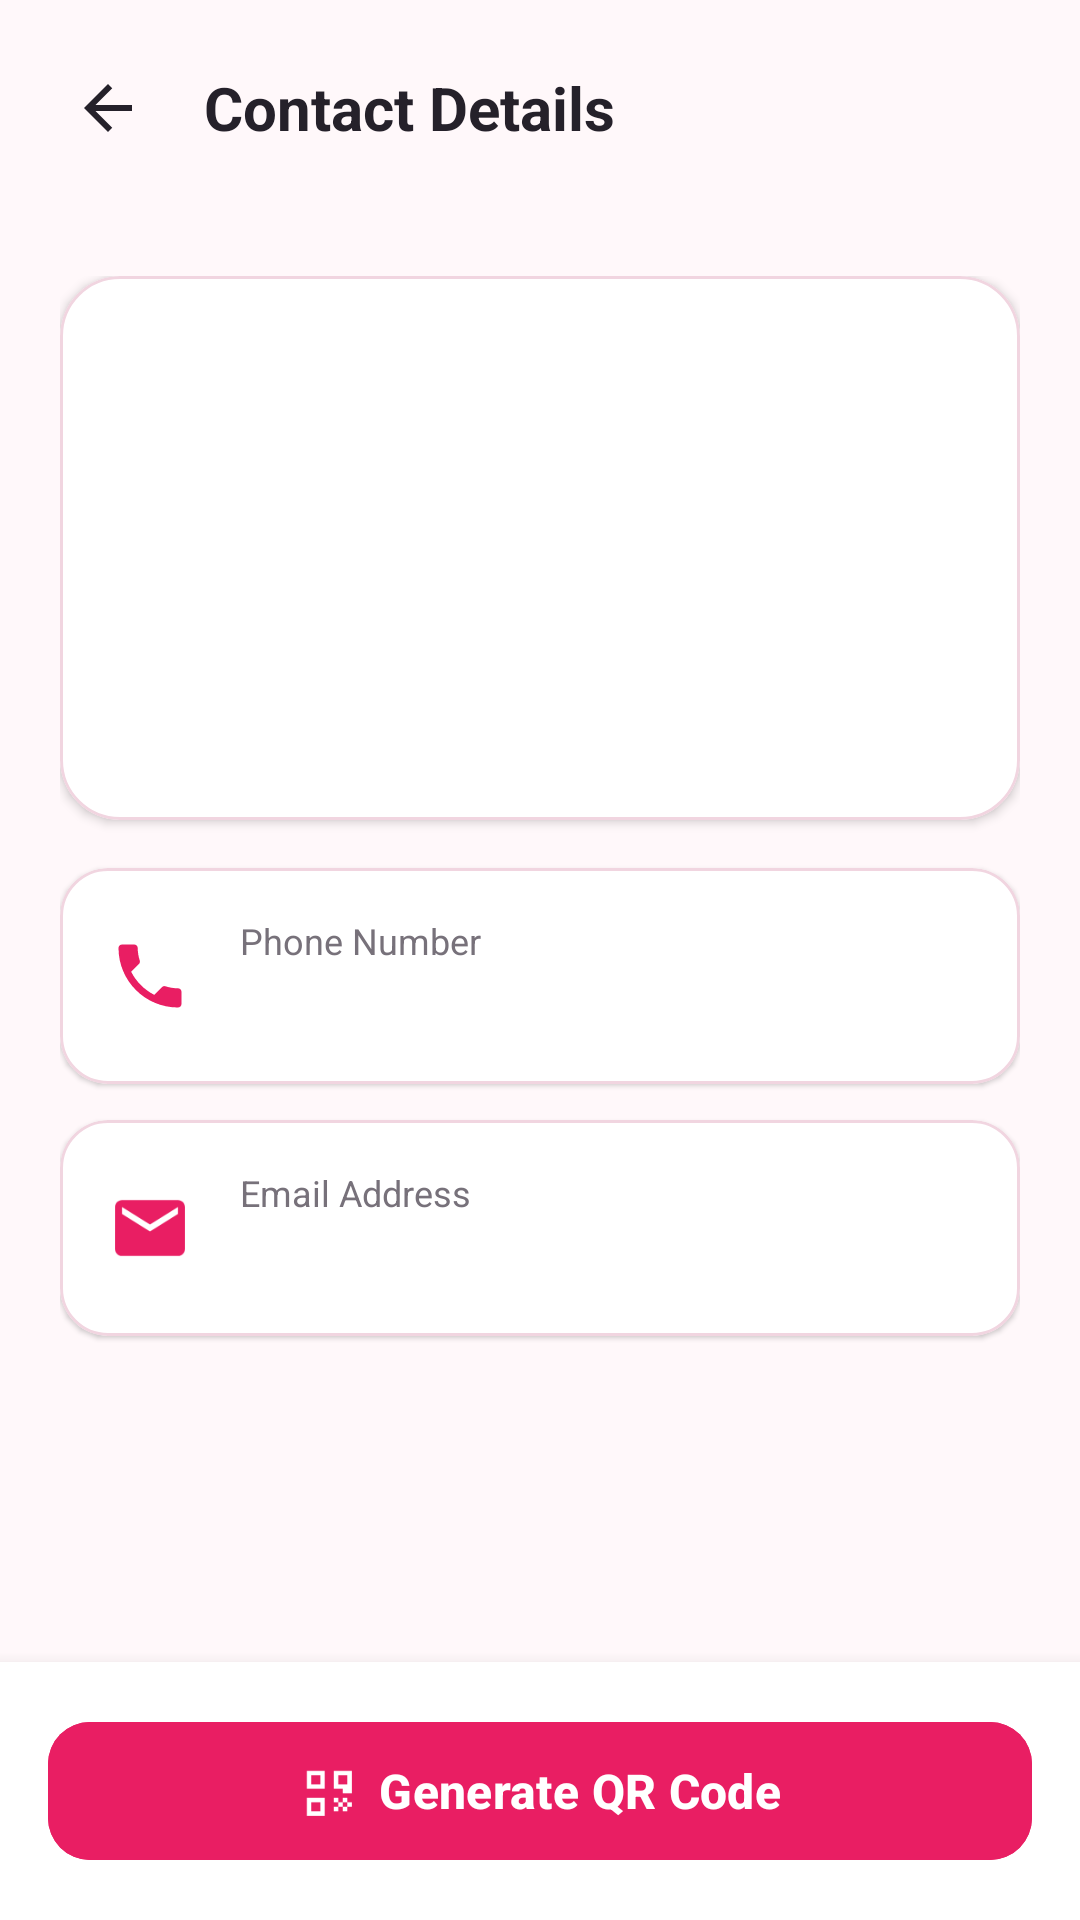

Named icons in this screenshot (1080 × 1920) and their bounding boxes, (x1, y1, x2, y2):
Back to Contacts: (84, 84, 132, 132)
